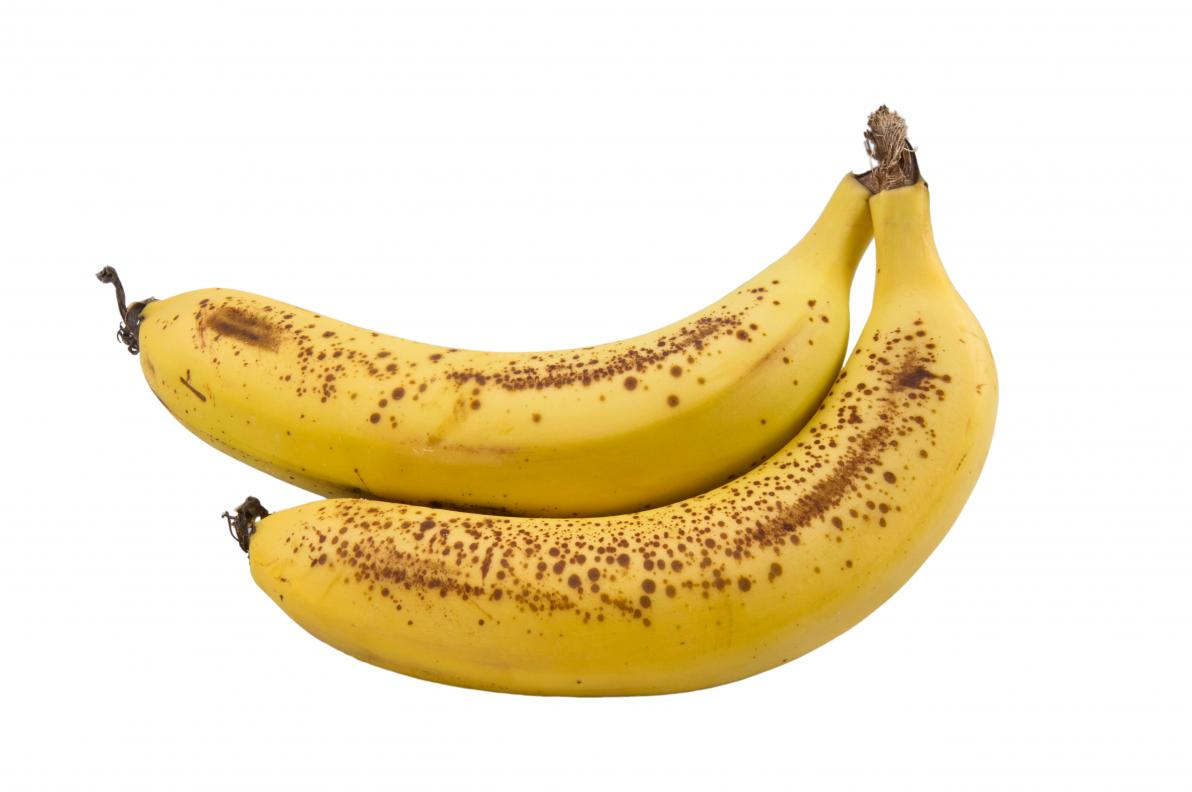banana: (142, 266, 1035, 792), (109, 157, 834, 483)
